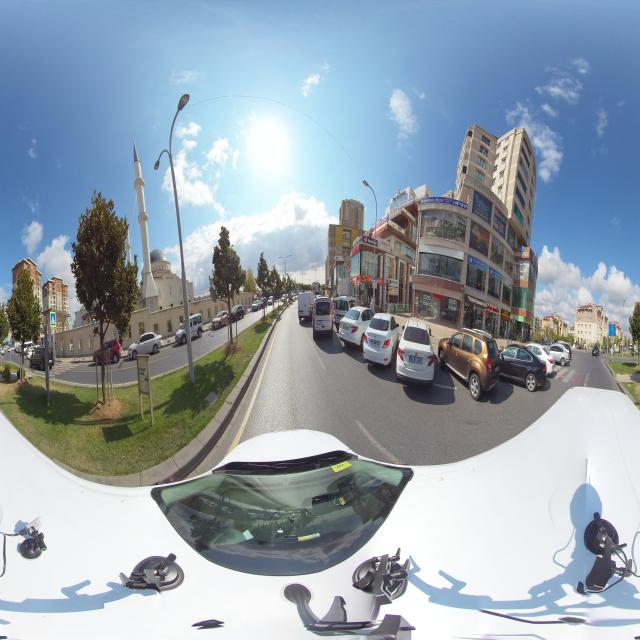SignStore: (469, 254, 487, 272), (489, 266, 503, 283), (377, 237, 391, 251), (486, 302, 500, 314), (363, 235, 378, 246), (352, 243, 360, 256), (362, 275, 373, 284), (389, 278, 399, 287), (502, 309, 510, 319), (389, 287, 398, 295), (514, 315, 524, 322), (352, 276, 357, 282), (525, 318, 528, 324)
